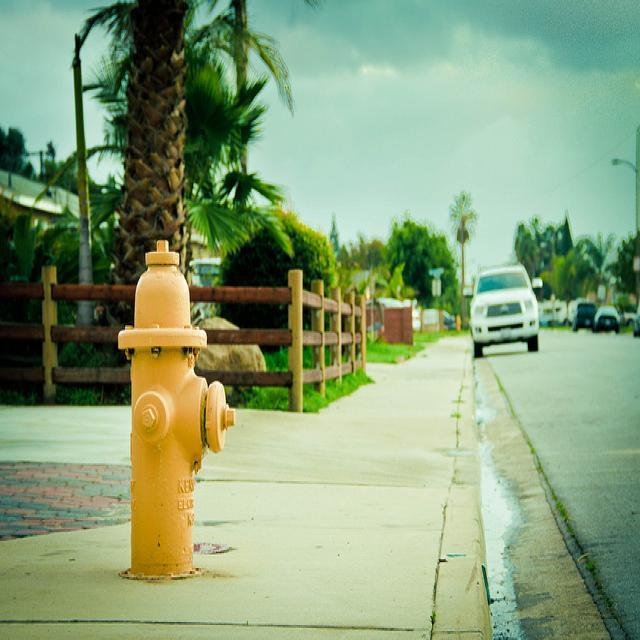fire_hydrant: (118, 241, 238, 577), (455, 313, 461, 334)
